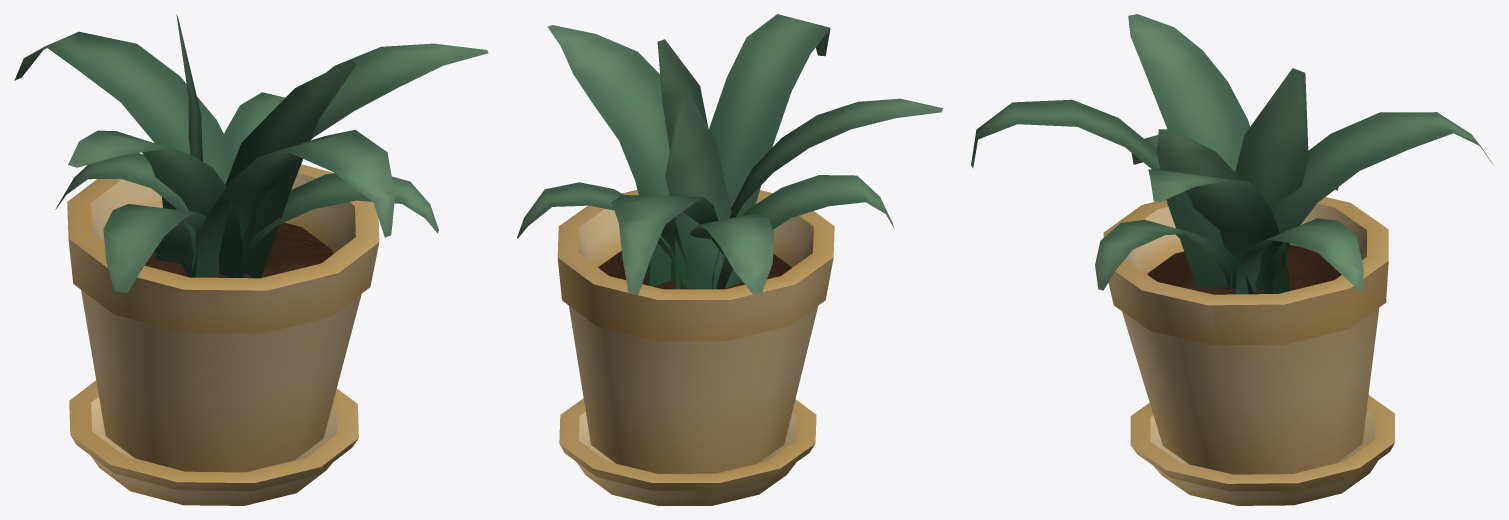
Rendered from PottedPlant.fbx.
3 renders of one model, left to right at view 1: azimuth 30°, elevation 25°; view 2: azimuth 150°, elevation 25°; view 3: azimuth 270°, elevation 25°, orthographic. The views are drawn at different scales.
Visible parts, largest first — view 1: PottedPlant; view 2: PottedPlant; view 3: PottedPlant.
Boxes of the visible parts, bbox=[...] form: PottedPlant: bbox=[14, 14, 488, 505]; PottedPlant: bbox=[517, 14, 942, 505]; PottedPlant: bbox=[971, 14, 1492, 505].
Bounding box in the file's own units: 2.65 × 2.54 × 3.11.
